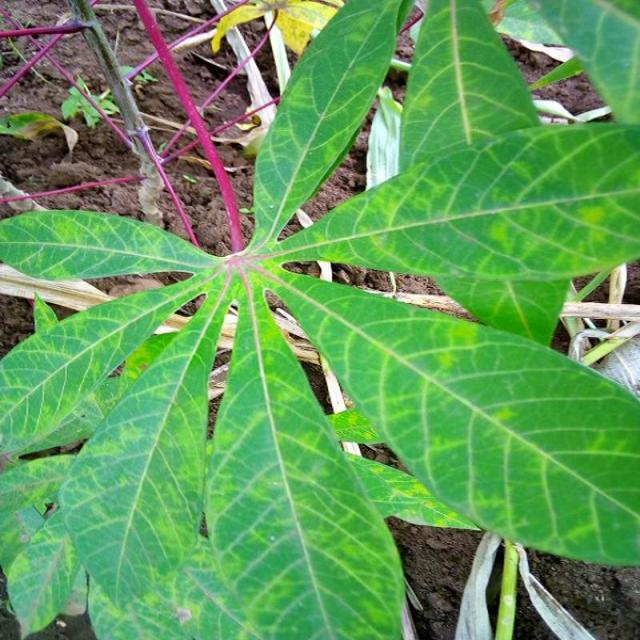cassava leaf: (1, 0, 638, 637), (255, 260, 639, 568), (204, 267, 407, 638), (248, 0, 411, 251)
